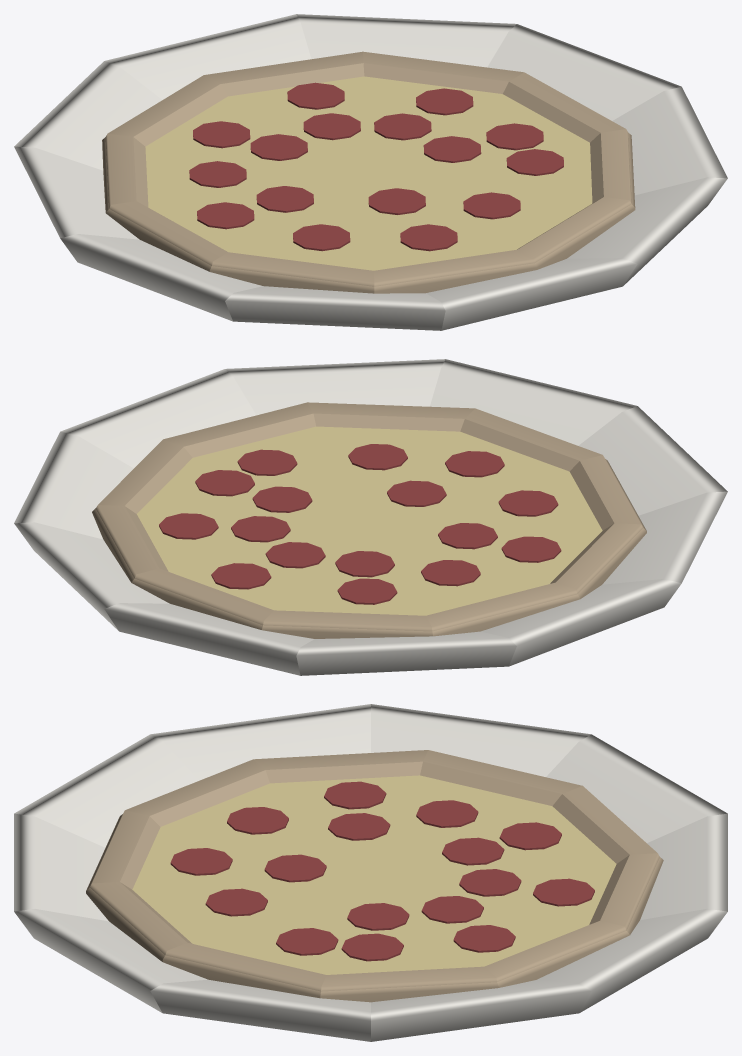
The model's file is PizzaInPlate.fbx.
The picture shows the model from 3 angles, top to bottom: view 1: azimuth 30°, elevation 25°; view 2: azimuth 150°, elevation 25°; view 3: azimuth 270°, elevation 25°; orthographic projection. The views are drawn at different scales.
Parts seen in each view (by area): view 1: Pizza, Plate, Pepperoni5, Pepperoni10, Pepperoni, Pepperoni8, Pepperoni14, Pepperoni3, Pepperoni6, Pepperoni11, Pepperoni2, Pepperoni13 (+6 smaller); view 2: Pizza, Plate, Pepperoni1, Pepperoni2, Pepperoni6, Pepperoni5, Pepperoni3, Pepperoni4, Pepperoni12, Pepperoni7, Pepperoni, Pepperoni14 (+6 smaller); view 3: Pizza, Plate, Pepperoni2, Pepperoni3, Pepperoni6, Pepperoni8, Pepperoni10, Pepperoni15, Pepperoni9, Pepperoni11, Pepperoni12, Pepperoni (+6 smaller).
Boxes of the visible parts, x1,y1,x2,y2 form: Pizza: (102, 51, 635, 293); Plate: (14, 14, 727, 330); Pepperoni5: (287, 82, 344, 109); Pepperoni10: (463, 192, 520, 219); Pepperoni: (400, 224, 457, 251); Pepperoni8: (486, 123, 543, 150); Pepperoni14: (374, 113, 431, 140); Pepperoni3: (189, 161, 246, 187); Pepperoni6: (303, 113, 360, 140); Pepperoni11: (368, 188, 425, 214); Pepperoni2: (197, 202, 254, 229); Pepperoni13: (250, 134, 307, 160); Pizza: (92, 402, 646, 638); Plate: (14, 359, 727, 675); Pepperoni1: (498, 490, 558, 516); Pepperoni2: (501, 536, 561, 562); Pepperoni6: (265, 542, 325, 568); Pepperoni5: (211, 563, 271, 589); Pepperoni3: (421, 560, 480, 586); Pepperoni4: (337, 578, 397, 604); Pepperoni12: (438, 523, 497, 549); Pepperoni7: (159, 513, 218, 539); Pepperoni: (445, 451, 504, 477); Pepperoni14: (231, 516, 290, 542); Pizza: (86, 750, 663, 1002); Plate: (14, 704, 727, 1041); Pepperoni2: (324, 781, 386, 809); Pepperoni3: (416, 800, 478, 827); Pepperoni6: (459, 869, 521, 896); Pepperoni8: (341, 933, 403, 961); Pepperoni10: (205, 888, 267, 916); Pepperoni15: (347, 903, 409, 930); Pepperoni9: (276, 928, 338, 955); Pepperoni11: (264, 854, 326, 882); Pepperoni12: (328, 813, 390, 840); Pepperoni: (170, 848, 232, 875).
Bounding box in the file's own units: 0.3356 × 0.0314 × 0.3192.
